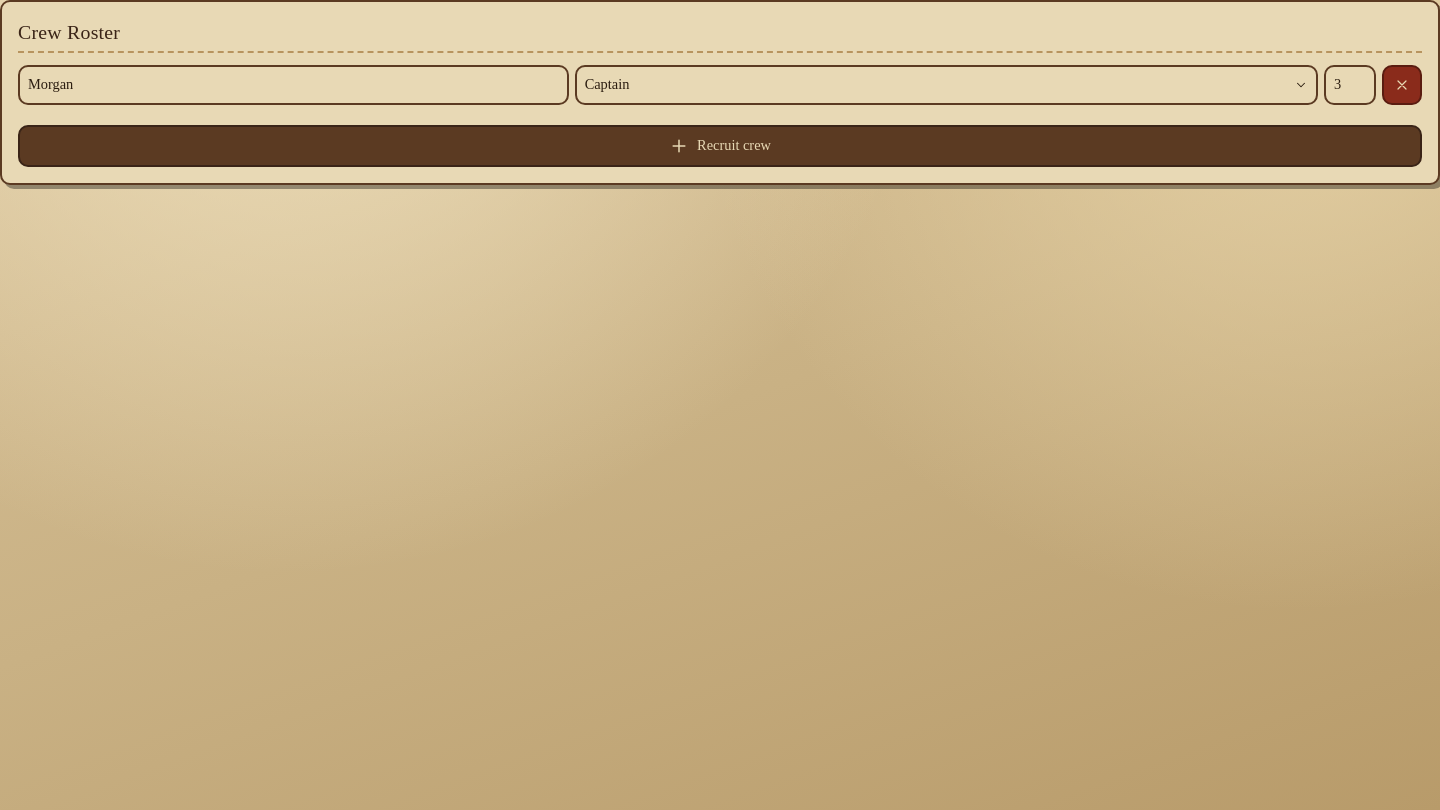
Test: CrewRoster › opens a themed role list and updates the selected crew role
The image size is (1440, 810).
What coordinates should you click on to do the following:
click the dropdown named "Crew role"
I would click on:
 (607, 84)
Its box is [575,65,1318,105].
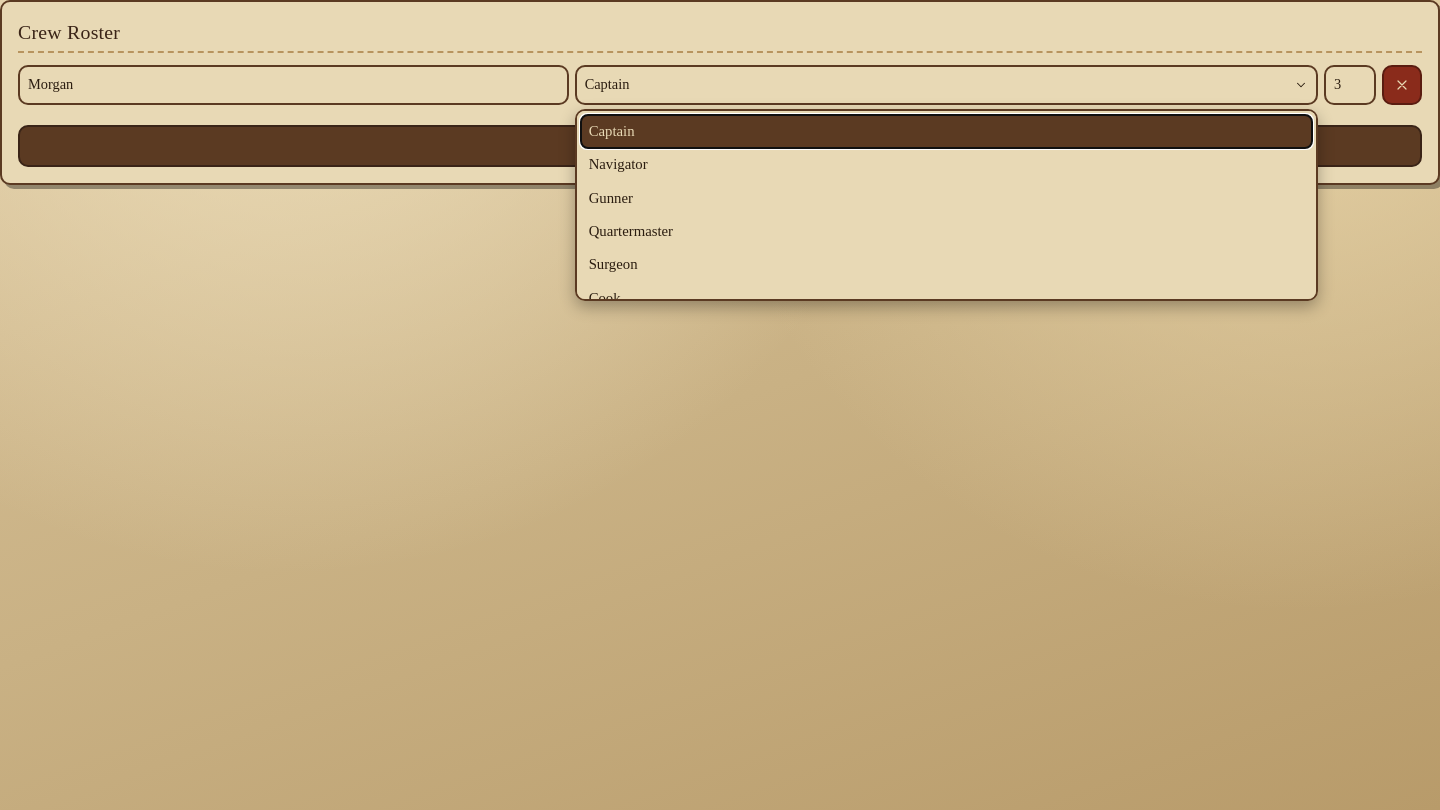
Check: the list named "Crew role" is shown, box [575,109,1318,301]
What coordinates should you click on to do the following:
click the option "Quartermaster"
I would click on:
 (631, 231)
Its box is [581,215,1312,248].
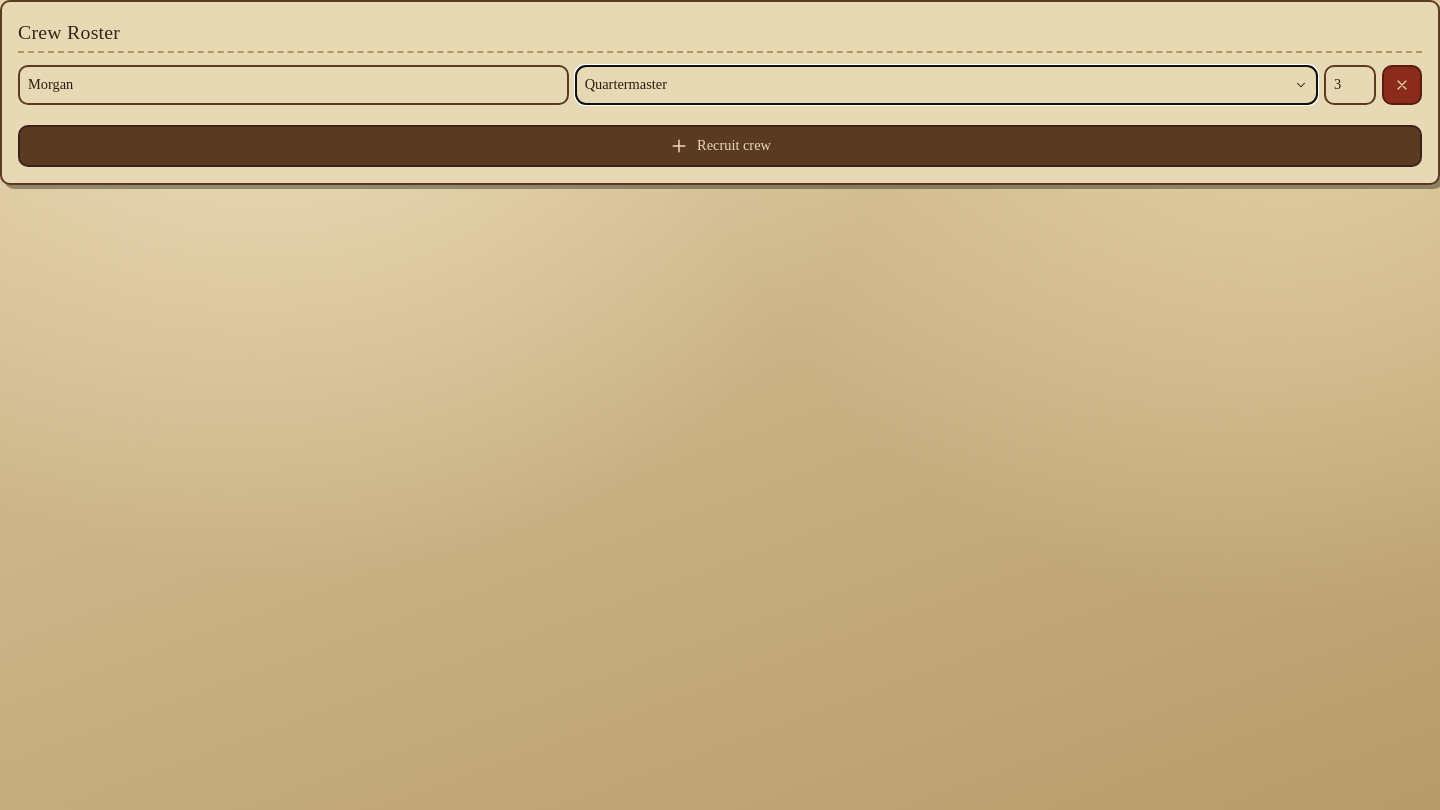
Check: the dropdown named "Crew role" reads "Quartermaster", box [575,65,1318,105]
